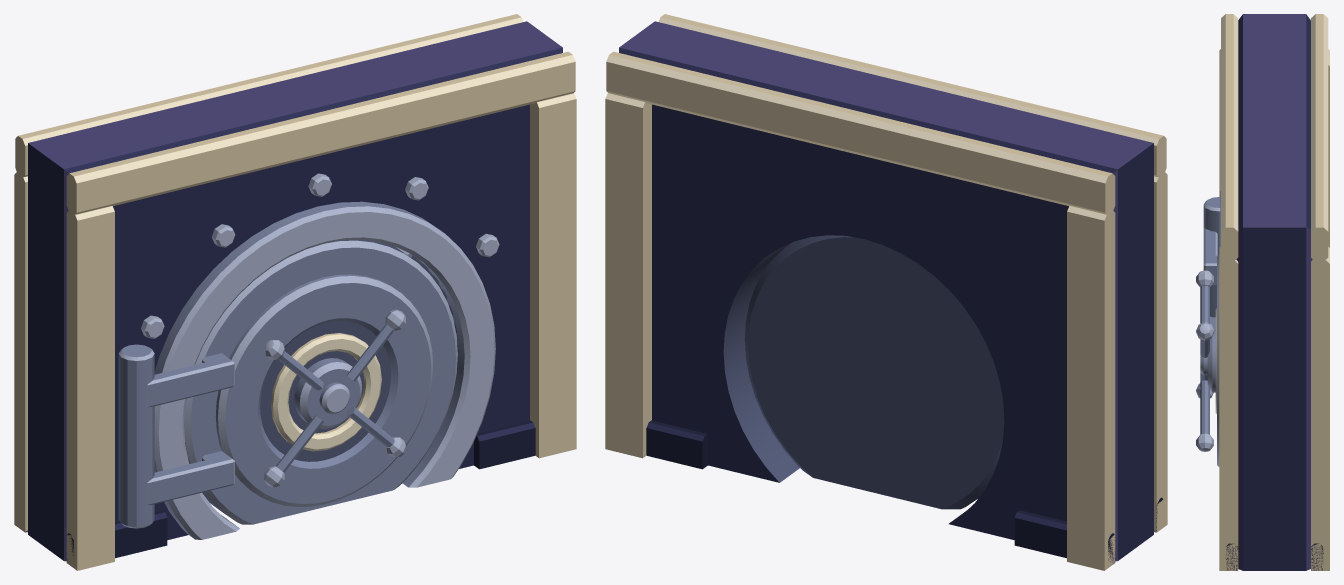
The model's file is VaultDoor_Greybox.fbx.
3 views of the same model, side by side, from view 1: azimuth 30°, elevation 25°; view 2: azimuth 150°, elevation 25°; view 3: azimuth 270°, elevation 25° (orthographic). The views are drawn at different scales.
Visible parts, largest first — view 1: VaultDoor_Frame, VaultDoor_Door, VaultDoor_Dial, VaultDoor_DialRing; view 2: VaultDoor_Frame, VaultDoor_Door; view 3: VaultDoor_Frame, VaultDoor_Dial, VaultDoor_Door, VaultDoor_DialRing.
Part boxes in pixels (x1,y1,x2,y2): VaultDoor_Frame: [14, 14, 576, 570]; VaultDoor_Door: [118, 240, 457, 528]; VaultDoor_Dial: [264, 309, 405, 487]; VaultDoor_DialRing: [271, 333, 381, 451]; VaultDoor_Frame: [605, 14, 1167, 570]; VaultDoor_Door: [744, 235, 1004, 509]; VaultDoor_Frame: [1219, 14, 1329, 570]; VaultDoor_Dial: [1196, 270, 1215, 451]; VaultDoor_Door: [1203, 197, 1220, 466]; VaultDoor_DialRing: [1215, 308, 1216, 413].
Size of the model in its own units: 16 by 12 by 4.24.
1 material, 1 textured.
